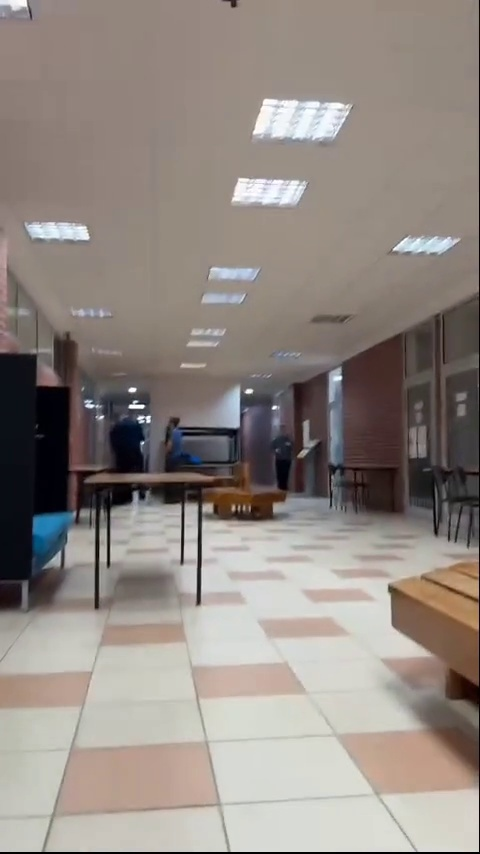no vest: (108, 406, 152, 473), (159, 411, 195, 472), (270, 420, 294, 500)
